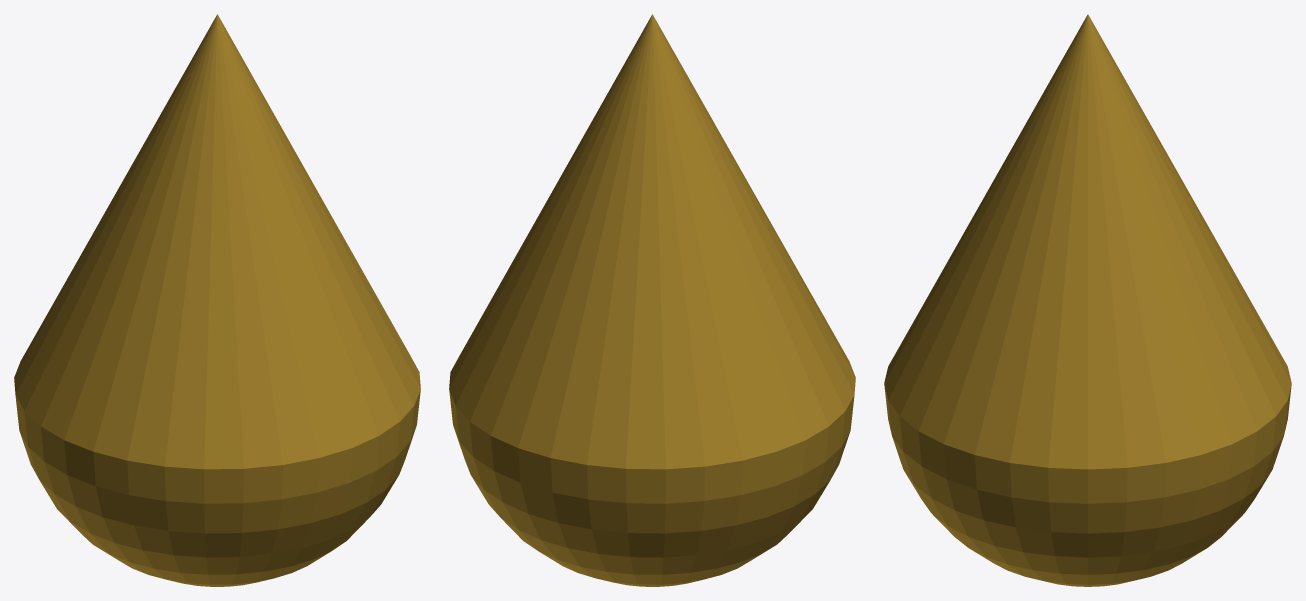
File: checkpoint.obj
3 renders of one model, left to right at view 1: azimuth 30°, elevation 25°; view 2: azimuth 150°, elevation 25°; view 3: azimuth 270°, elevation 25°, orthographic.
Parts seen in each view (by area): view 1: Sphere; view 2: Sphere; view 3: Sphere.
Boxes of the visible parts, x1=… form: Sphere: x1=14, y1=14, x2=420, y2=586; Sphere: x1=449, y1=14, x2=855, y2=586; Sphere: x1=884, y1=14, x2=1291, y2=586.
Bounding box in the file's own units: 2 × 3 × 2.
